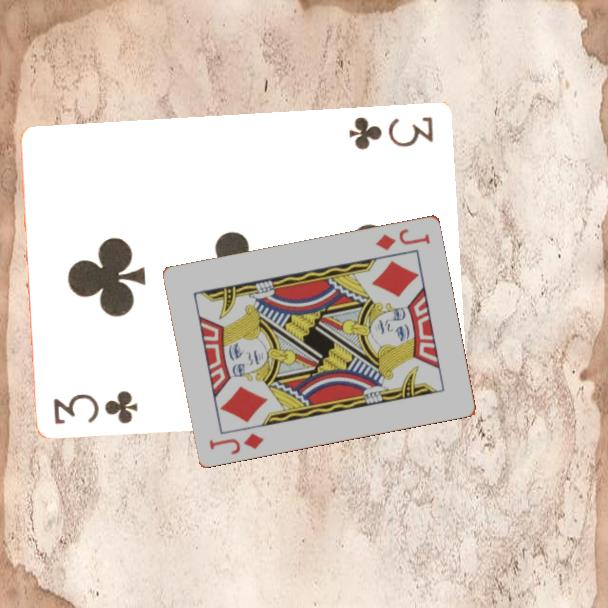c03: (345, 112, 437, 152), (50, 387, 141, 427)
d11: (372, 225, 433, 253), (206, 429, 267, 457)
